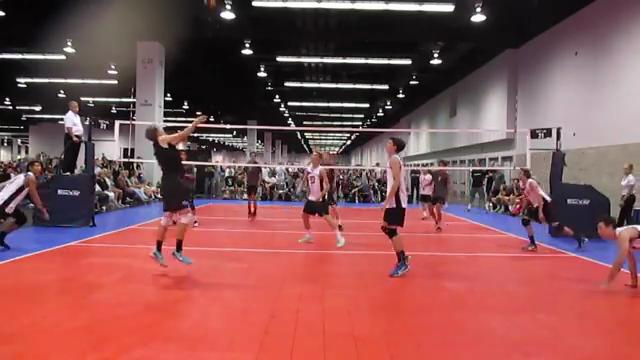Player: (519, 168, 586, 250), (0, 160, 48, 249), (300, 151, 344, 246), (381, 137, 408, 276), (597, 217, 639, 287), (431, 169, 450, 231), (325, 168, 343, 231), (246, 166, 261, 218), (419, 170, 434, 219), (181, 151, 186, 161)
Receive: (134, 108, 210, 271)
ball: (201, 0, 217, 8)
